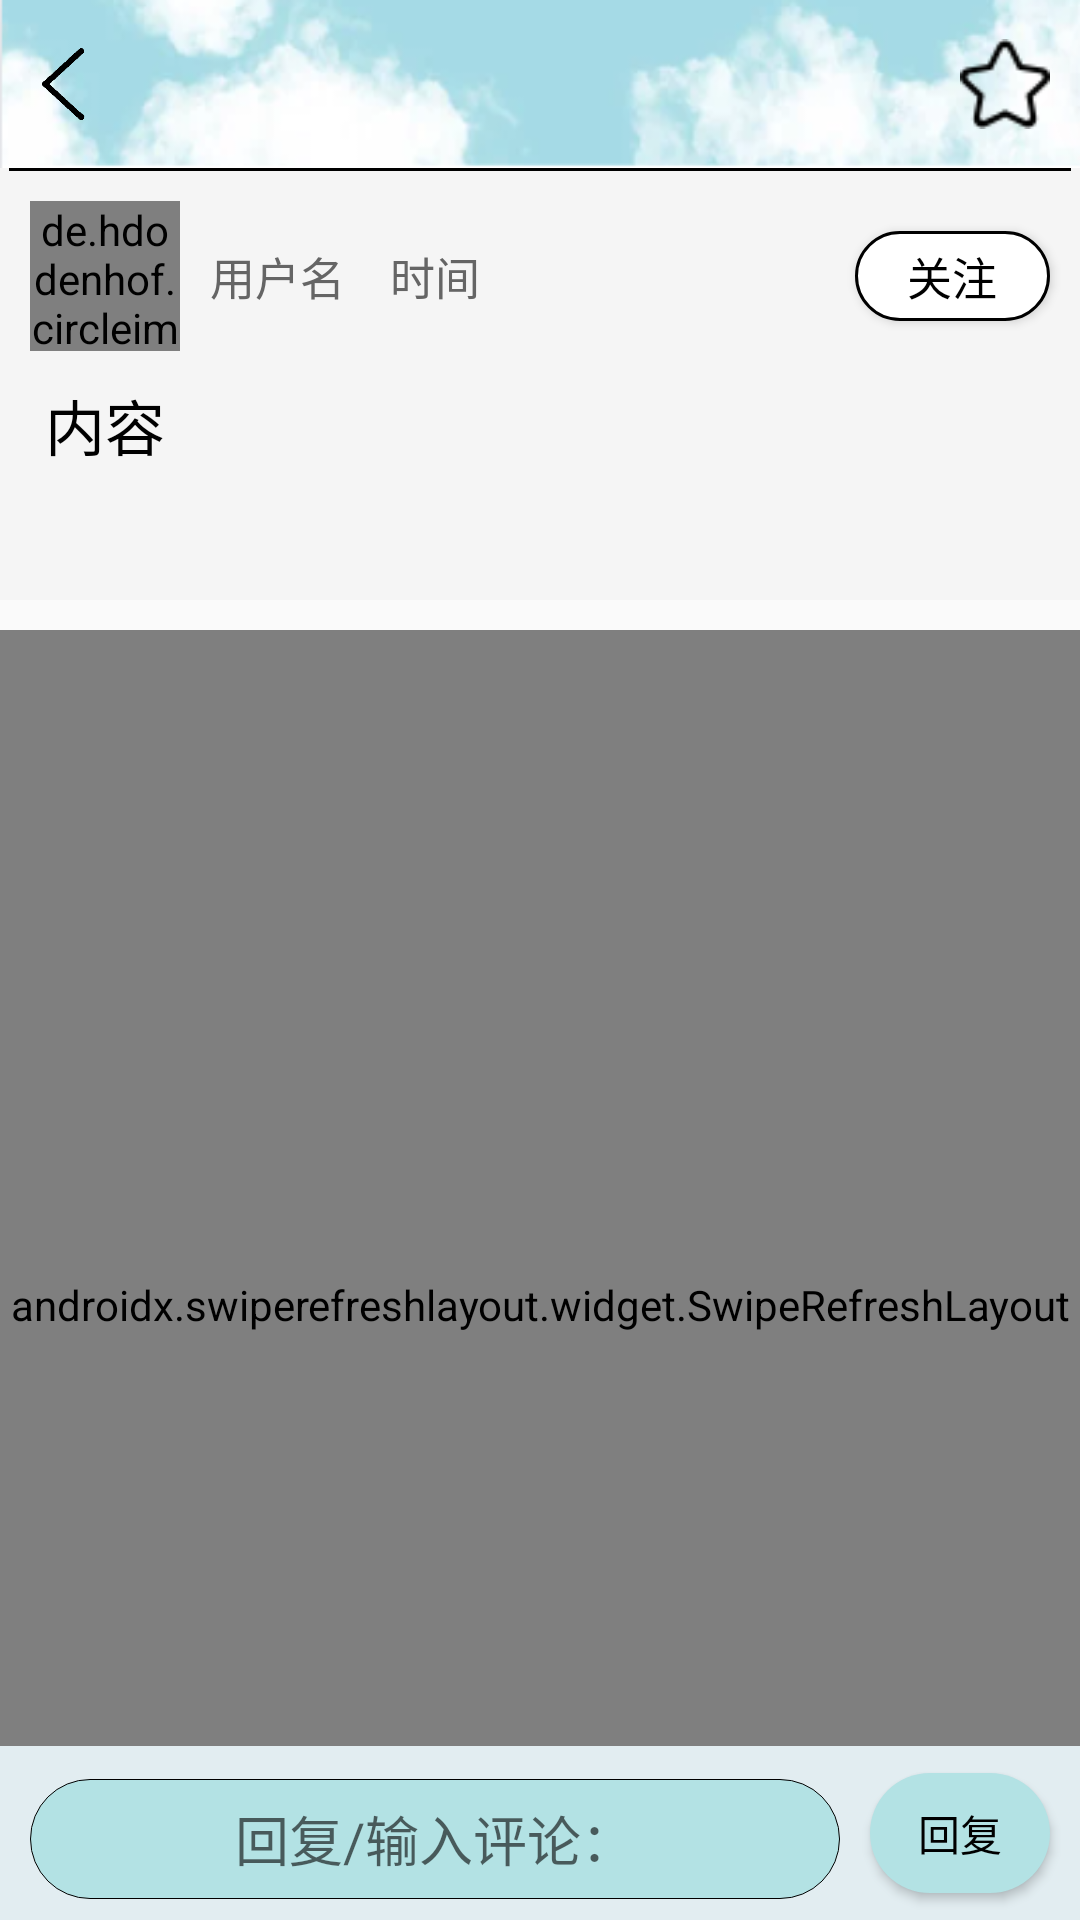

Where to tap for icons on this 1080*1920 app screen, as [x,y]:
collect: [1005,84]
return: [63,84]
